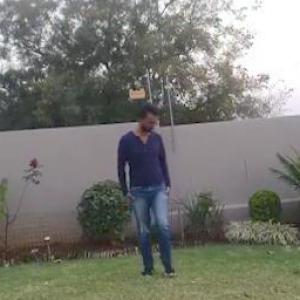follow: (118, 97, 177, 282)
